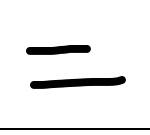eqv: (26, 43, 126, 88)
